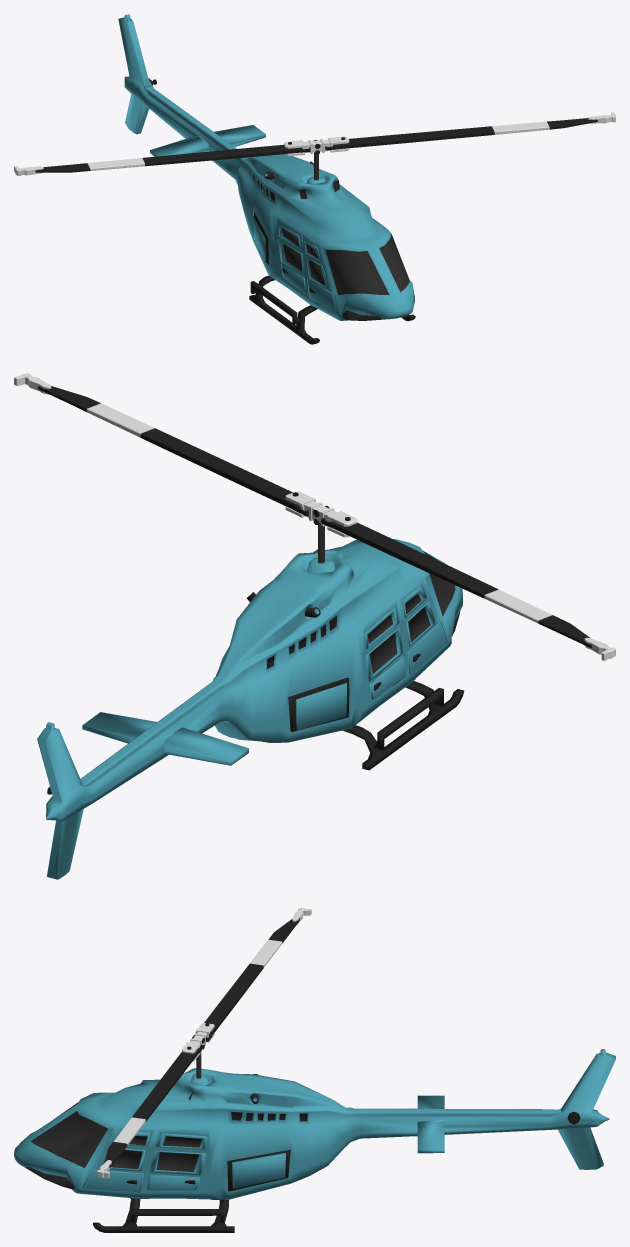
Rendered from bell.glb.
The picture shows the model from 3 angles, top to bottom: view 1: azimuth 30°, elevation 25°; view 2: azimuth 150°, elevation 25°; view 3: azimuth 270°, elevation 25°; orthographic projection. The views are drawn at different scales.
Parts seen in each view (by area): view 1: body_helicopter, baling baling_1; view 2: body_helicopter, baling baling_1; view 3: body_helicopter, baling baling_1.
Part boxes in pixels (box(x1,y1,x2,y2)): body_helicopter: box(118, 14, 415, 344); baling baling_1: box(14, 112, 615, 175); body_helicopter: box(37, 523, 464, 879); baling baling_1: box(14, 373, 615, 660); body_helicopter: box(14, 1049, 615, 1232); baling baling_1: box(97, 908, 311, 1178).
Size of the model in its own units: 18.85 by 5.66 by 18.06.
